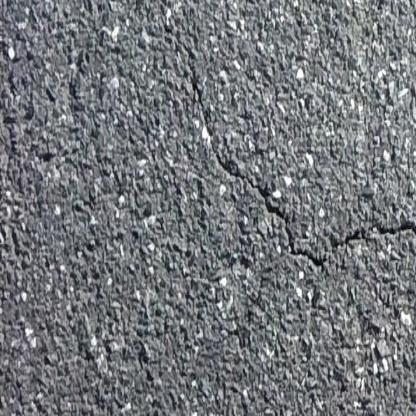Cracks: (160, 19, 416, 271)
